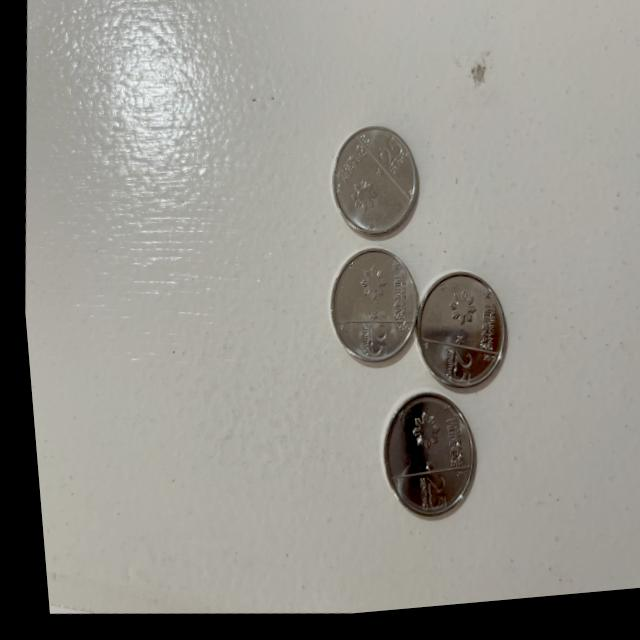25Cent_New_Front: (397, 466, 447, 526), (345, 324, 391, 373), (432, 349, 478, 395), (369, 137, 409, 185)
